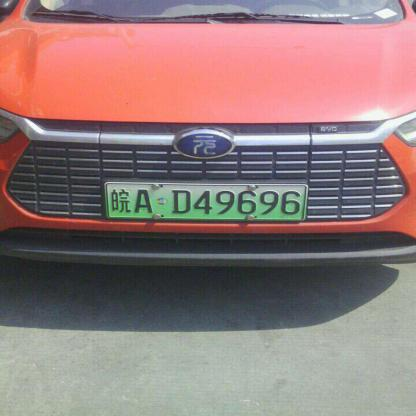lp: (106, 182, 306, 218)
